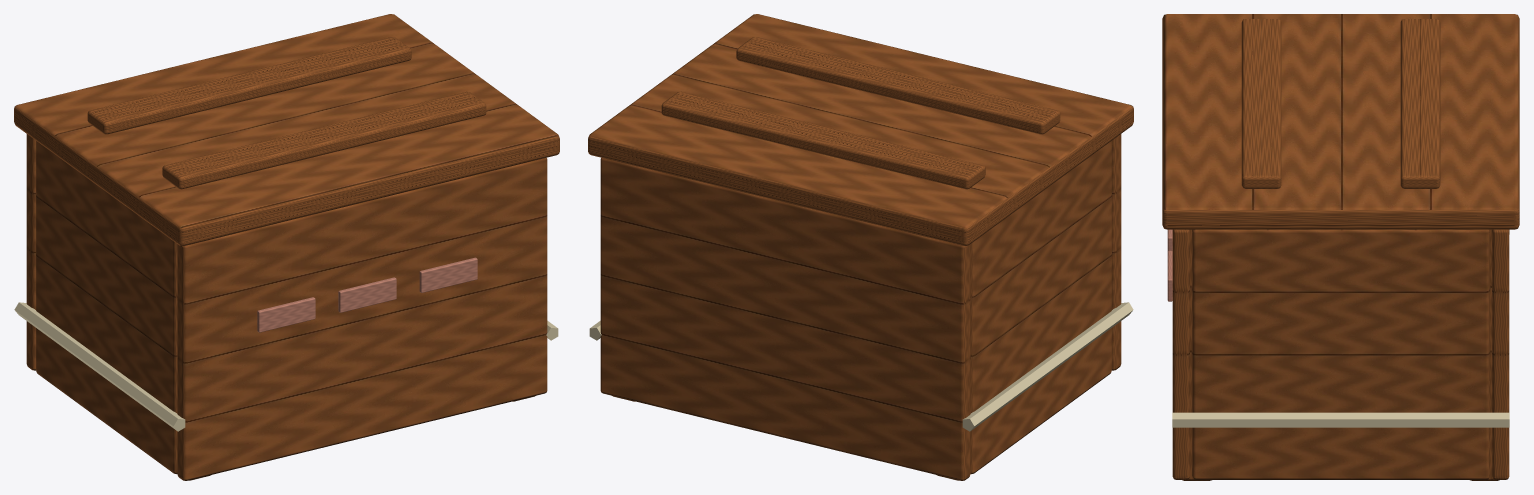
File: jungle-temple-and-stone-city-supply-crate-8914bf2e__36147.glb
3 views of the same model, side by side, from view 1: azimuth 30°, elevation 25°; view 2: azimuth 150°, elevation 25°; view 3: azimuth 270°, elevation 25° (orthographic). The views are drawn at different scales.
Parts seen in each view (by area): view 1: supply-crate, lid-crate; view 2: supply-crate, lid-crate; view 3: supply-crate, lid-crate.
Part boxes in pixels (x1,y1,x2,y2): supply-crate: (14, 134, 558, 480); lid-crate: (14, 14, 559, 246); supply-crate: (589, 134, 1133, 480); lid-crate: (588, 14, 1133, 246); supply-crate: (1167, 229, 1509, 480); lid-crate: (1162, 14, 1519, 229).
Size of the model in its own units: 0.9489 by 0.655 by 0.72.
3 materials, 2 textured.
